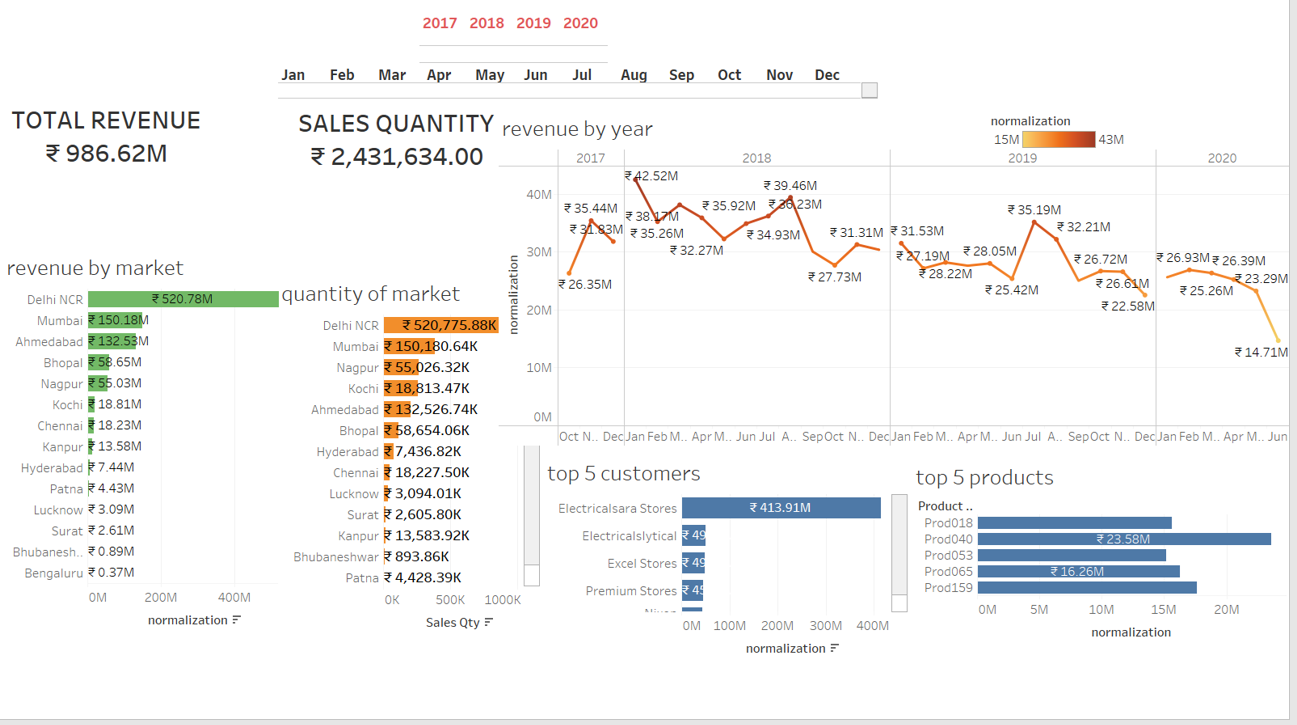

What the dashboard file says about the page in this screenshot:
{"tool":"tableau","page":{"name":"Dashboard 1","canvas":[1600,900],"ordinal":0},"visuals":[{"type":"worksheet","title":"year","mark":"Automatic","cols":["cy_date"],"box":[523.7,11,347.7,115]},{"type":"worksheet","title":"months ","mark":"Automatic","cols":["cy_date"],"box":[349,93,828,40]},{"type":"worksheet","title":"revenue","mark":"Automatic","box":[7.5,138,313.6,159]},{"type":"worksheet","title":"sales quantity","mark":"Automatic","box":[365.9,142,310.4,163]},{"type":"worksheet","title":"revenue by year","mark":"Automatic","rows":["Calculation_790100277545562112"],"cols":["cy_date","cy_date"],"box":[622,146,979,417]},{"type":"legend","title":"revenue by year","param":"[federated.10o0wpv1lkv6o4133j6et1eu64es].[sum:Calculation_790100277545562112:qk]","box":[1231,146,170,88]},{"type":"worksheet","title":"revenue by market ","mark":"Automatic","rows":["markets_name"],"cols":["Calculation_790100277545562112"],"box":[8.5,318,353.1,526]},{"type":"worksheet","title":"quantity of market","mark":"Automatic","rows":["markets_name"],"cols":["sales_qty"],"box":[348.8,350,324.3,448]},{"type":"worksheet","title":"top 5 customers","mark":"Automatic","rows":["custmer_name"],"cols":["Calculation_790100277545562112"],"box":[678,572,450,258]},{"type":"worksheet","title":"top 5 products","mark":"Automatic","rows":["product_code (products)"],"cols":["Calculation_790100277545562112"],"box":[1134,577,462,254]}]}

Visuals, with their boxes in screenshot pixels (x1, y1, x2, y2), scaled from the page's 1600x900 canvas onto the 1297x725 screenshot:
"year" worksheet: 425,9,706,102
"months " worksheet: 283,75,954,107
"revenue" worksheet: 6,111,260,239
"sales quantity" worksheet: 297,114,548,246
"revenue by year" worksheet: 504,118,1296,454
"revenue by year" legend: 998,118,1136,188
"revenue by market " worksheet: 7,256,293,680
"quantity of market" worksheet: 283,282,546,643
"top 5 customers" worksheet: 550,461,914,669
"top 5 products" worksheet: 919,465,1294,669
